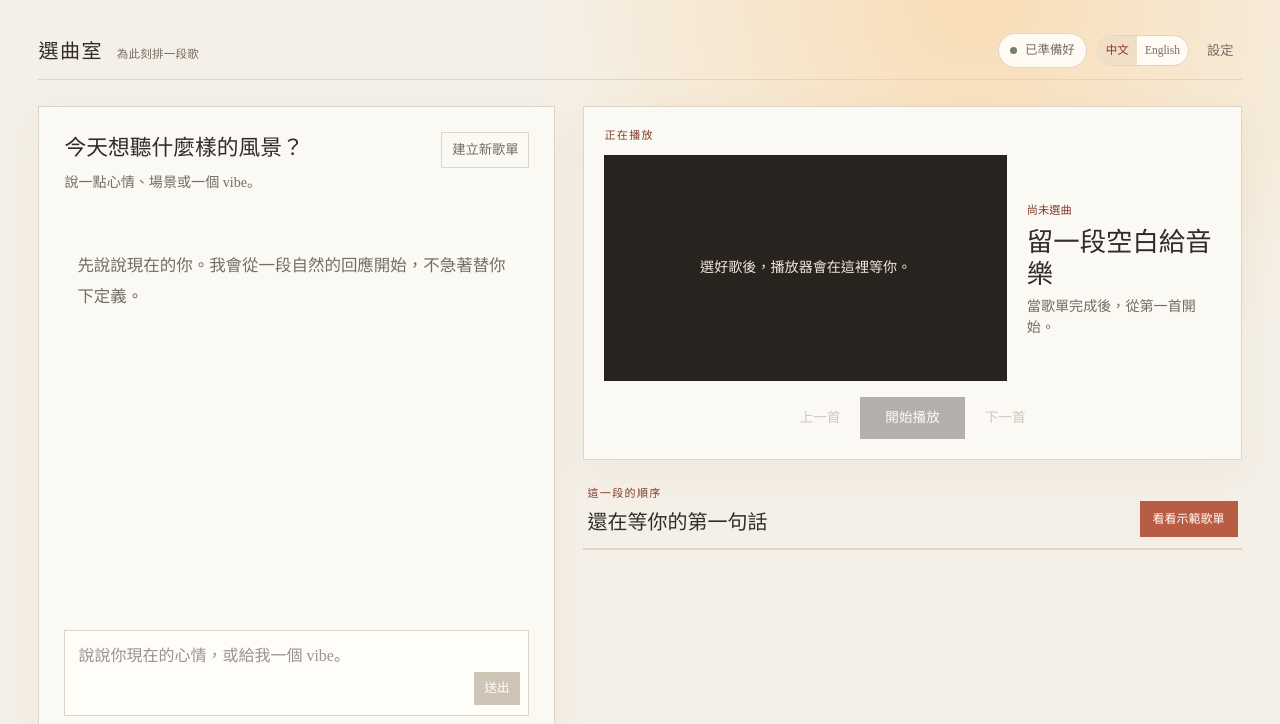
Pedelec submit flow › appends only the send failure when no assistant output was received
Type "沒有回應" into the text box with placeholder "說說你現在的心情，或給我一個 vibe。" at coordinates (297, 673), box 64,630 -> 530,716
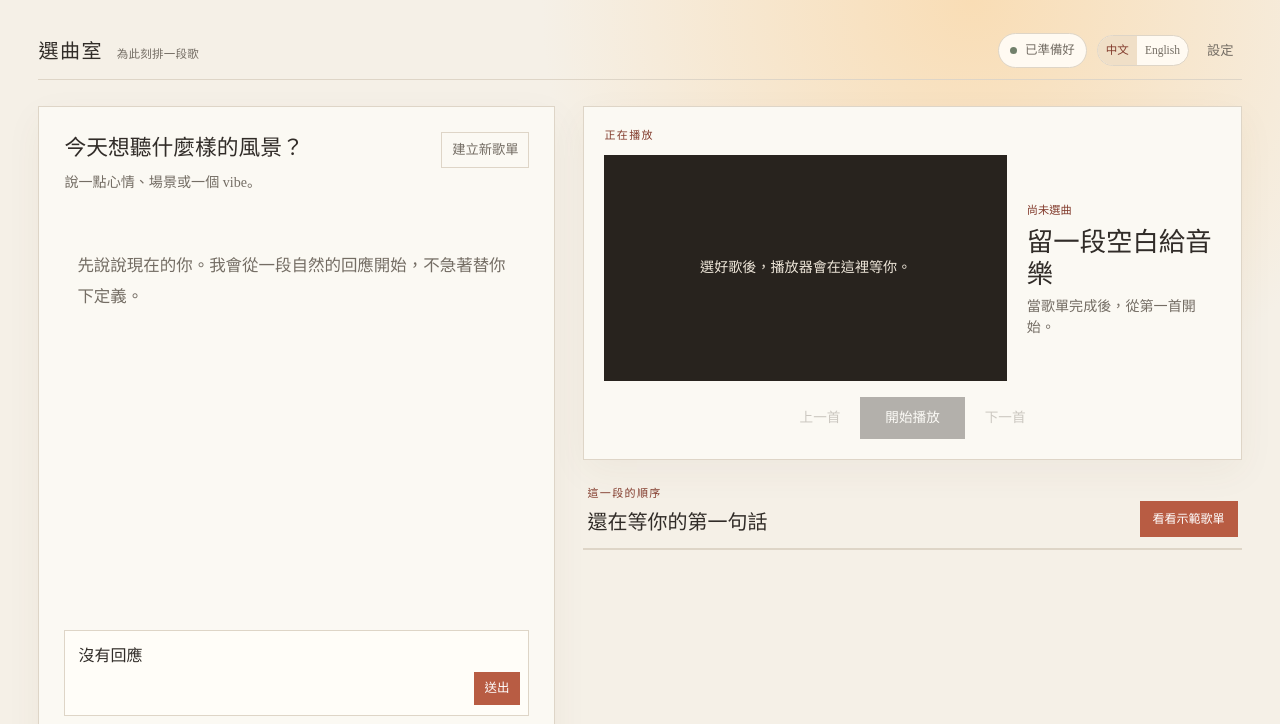
Click the button with aria-label "送出選曲需求" at coordinates (497, 688), box 474,672 -> 520,705
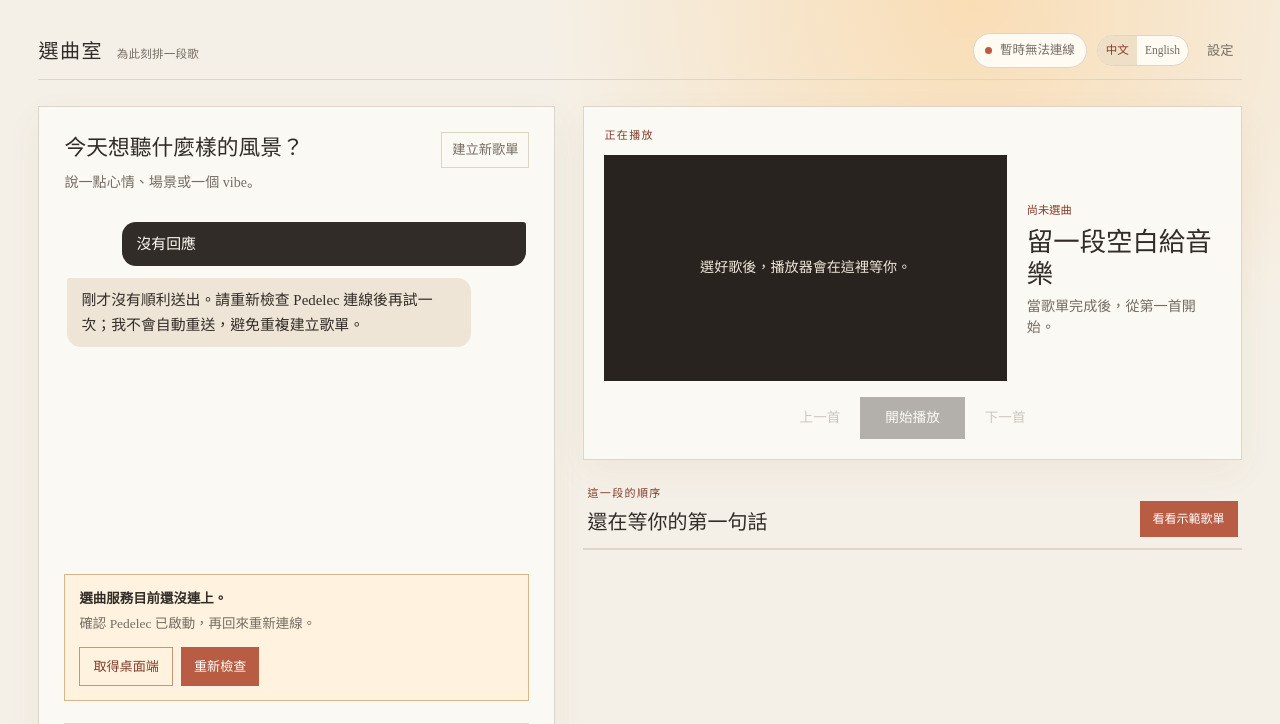
Now the text "剛才沒有順利送出。請重新檢查 Pedelec 連線後再試一次；我不會自動重送，避免重複建立歌單。" is shown once, box 81,288 -> 457,337
